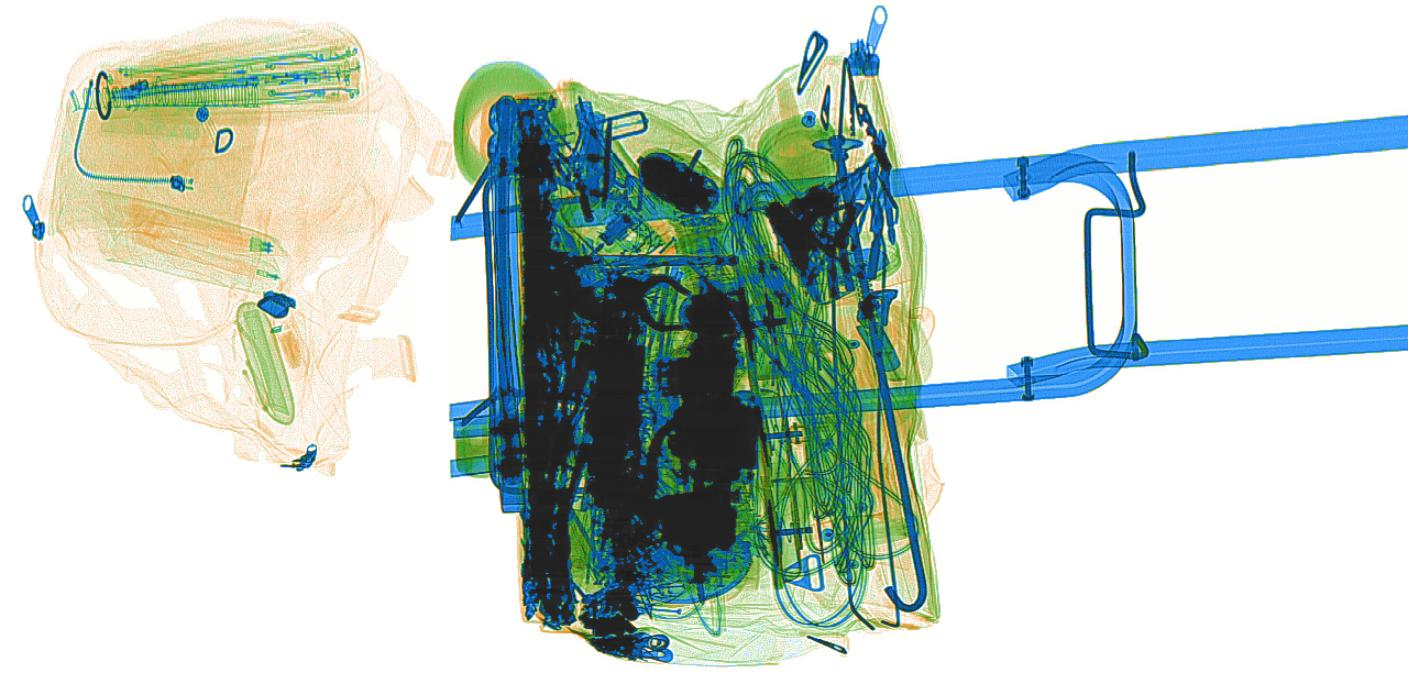battery: (572, 99, 605, 172)
